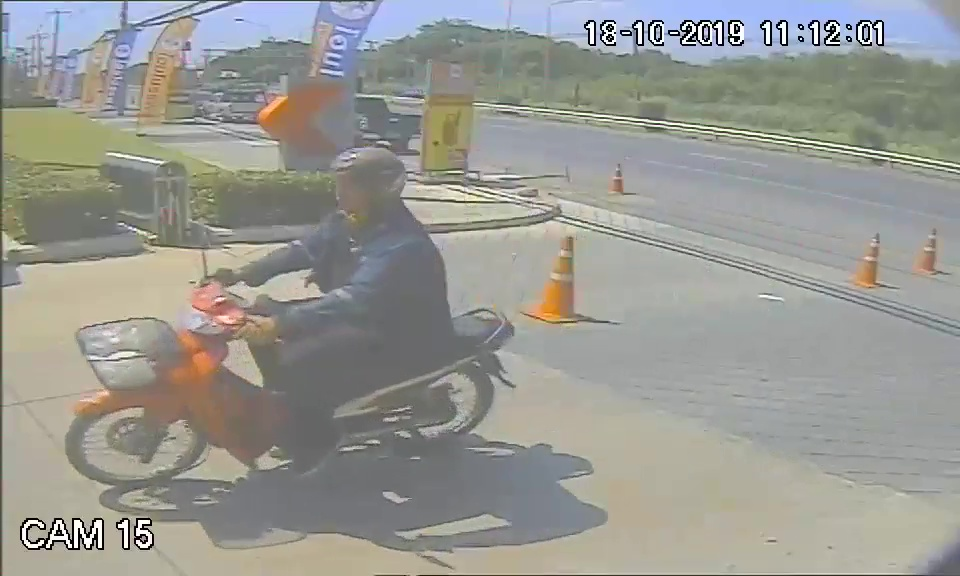motorcycle: (62, 281, 519, 489)
